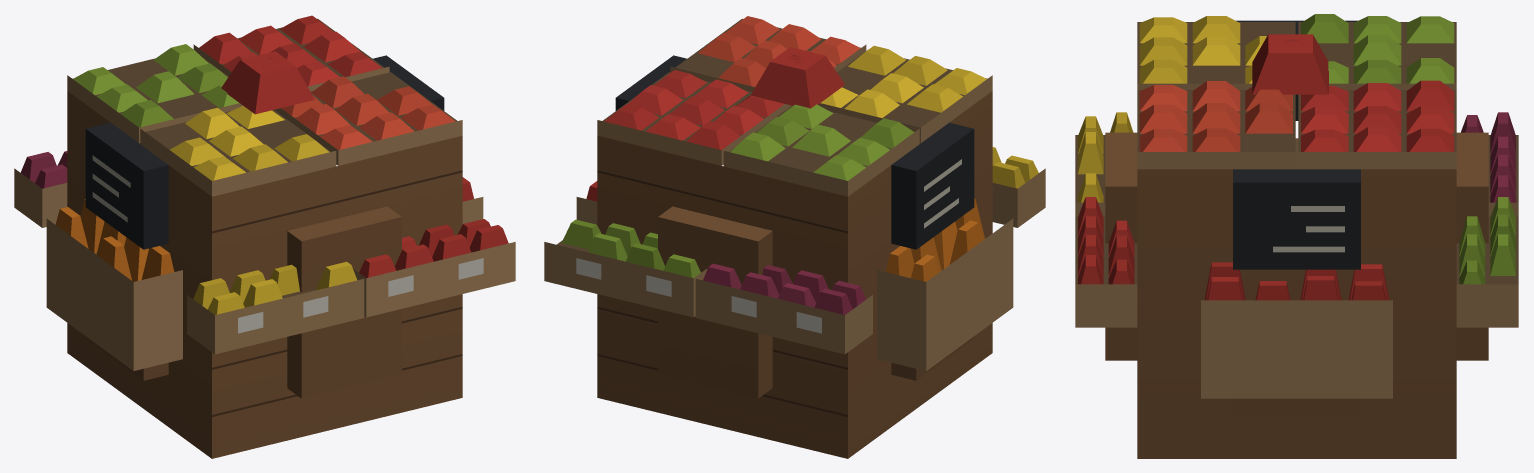
The model's file is shop.produce_stand.fruit.glb.
3 views of the same model, side by side, from view 1: azimuth 30°, elevation 25°; view 2: azimuth 150°, elevation 25°; view 3: azimuth 270°, elevation 25° (orthographic). The views are drawn at different scales.
Visible parts, largest first — view 1: shop_produce_stand_fruit; view 2: shop_produce_stand_fruit; view 3: shop_produce_stand_fruit.
Boxes of the visible parts, x1,y1,x2,y2 form: shop_produce_stand_fruit: [14, 15, 515, 458]; shop_produce_stand_fruit: [544, 16, 1045, 458]; shop_produce_stand_fruit: [1075, 14, 1518, 458].
Size of what is drawn, in the model's own units: 1.39 by 1.2 by 1.39.
